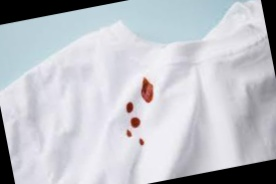blood: (138, 76, 157, 104), (130, 117, 142, 128), (124, 102, 135, 113), (138, 138, 145, 145), (126, 130, 132, 137)
